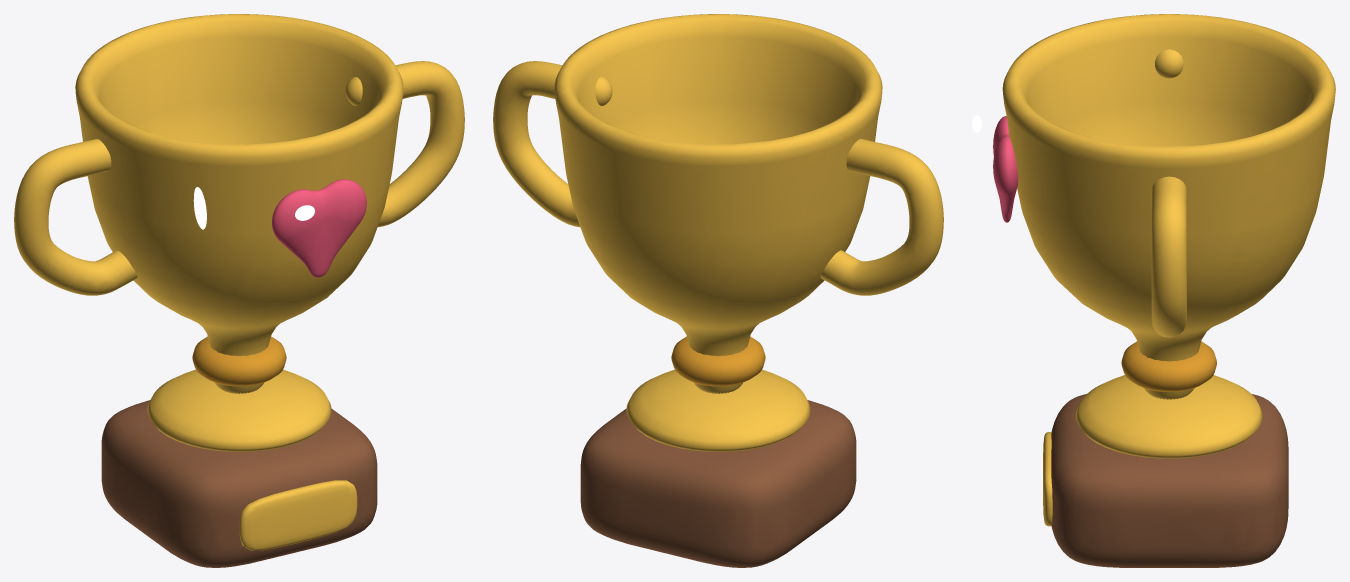
The model's file is reaccion_trofeo.glb.
The picture shows the model from 3 angles, left to right: view 1: azimuth 30°, elevation 25°; view 2: azimuth 150°, elevation 25°; view 3: azimuth 270°, elevation 25°; orthographic projection.
Parts seen in each view (by area): view 1: copa, peana, pie copa, asa copa, asa copa.001, placa peana, corazón copa, nudo tallo; view 2: copa, peana, pie copa, asa copa, asa copa.001, nudo tallo; view 3: copa, peana, pie copa, asa copa.001, nudo tallo, corazón copa, placa peana, asa copa.
Boxes of the visible parts, left/top/right/bottom form: copa: left=75, top=14, right=403, bottom=393; peana: left=101, top=400, right=377, bottom=567; pie copa: left=147, top=369, right=331, bottom=451; asa copa: left=14, top=139, right=137, bottom=295; asa copa.001: left=345, top=61, right=464, bottom=227; placa peana: left=239, top=480, right=357, bottom=550; corazón copa: left=272, top=179, right=366, bottom=277; nudo tallo: left=192, top=336, right=286, bottom=386; copa: left=554, top=14, right=882, bottom=393; peana: left=580, top=400, right=856, bottom=567; pie copa: left=626, top=369, right=810, bottom=451; asa copa: left=820, top=139, right=943, bottom=295; asa copa.001: left=493, top=61, right=612, bottom=227; nudo tallo: left=671, top=336, right=765, bottom=386; copa: left=1002, top=14, right=1335, bottom=399; peana: left=1051, top=394, right=1288, bottom=567; pie copa: left=1075, top=375, right=1262, bottom=458; asa copa.001: left=1151, top=176, right=1186, bottom=337; nudo tallo: left=1121, top=341, right=1216, bottom=391; corazón copa: left=993, top=116, right=1018, bottom=222; placa peana: left=1043, top=432, right=1052, bottom=526; asa copa: left=1155, top=49, right=1183, bottom=78.
Bounding box in the file's own units: 0.6122 × 0.5849 × 0.4258.
